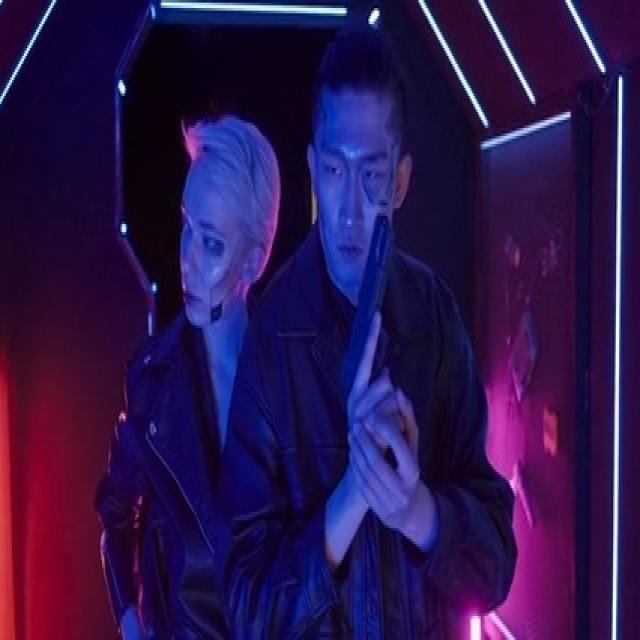Gun_Holder: (319, 210, 420, 508)
Jacket_Wearer: (234, 217, 518, 640), (101, 283, 249, 640), (493, 636, 515, 638)
Person: (238, 16, 515, 640), (97, 108, 281, 638)
